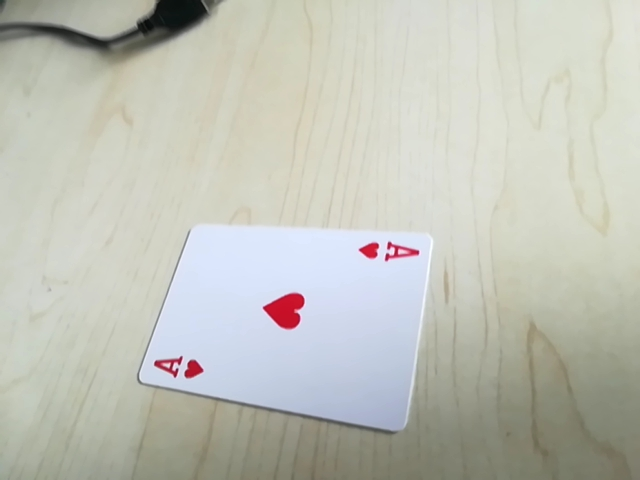hx a: (354, 233, 425, 270), (146, 349, 210, 385)
